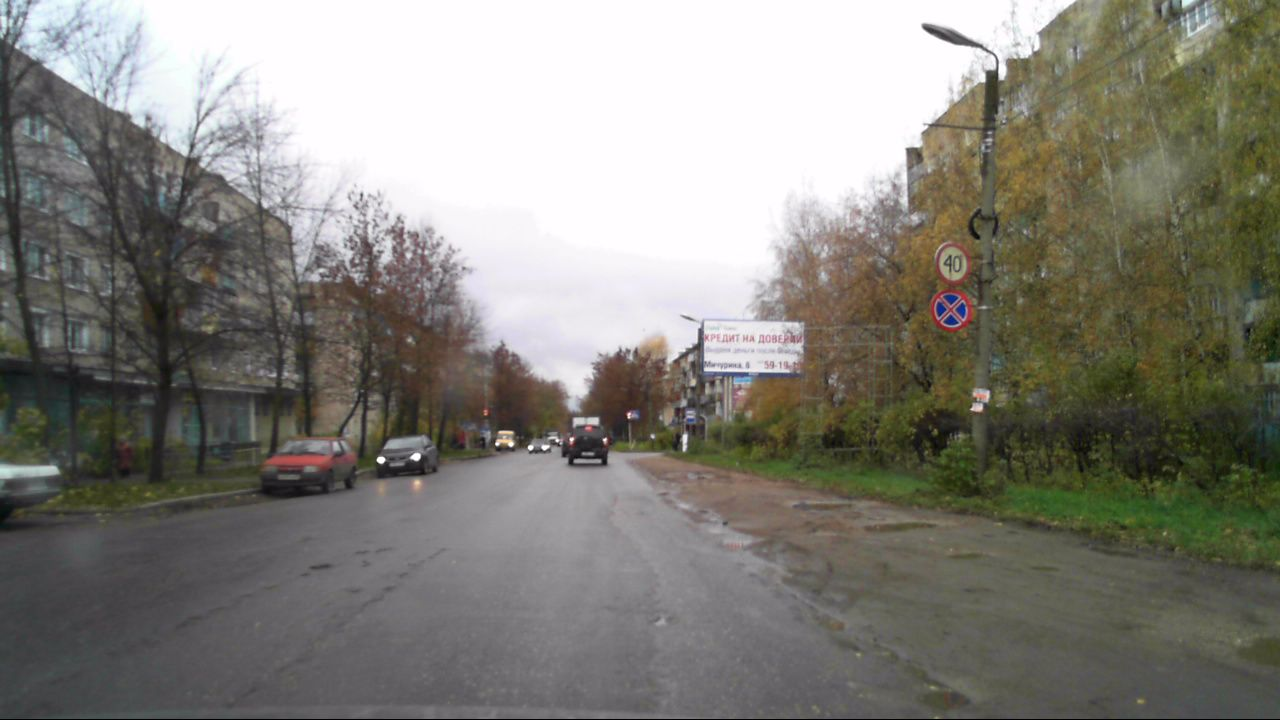No Parking: (929, 288, 973, 333)
speed_warning_40: (933, 239, 970, 286)
